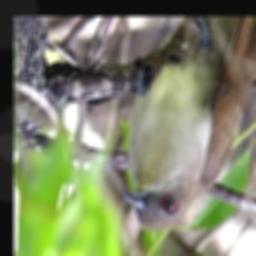Cuckoo: (120, 16, 256, 232)
